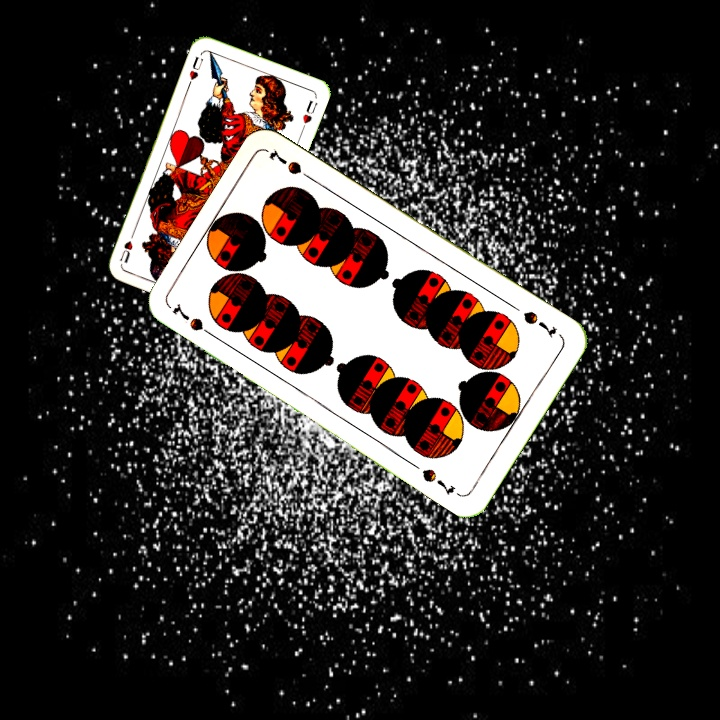HU: (185, 52, 206, 82)
S7: (168, 299, 219, 342), (519, 307, 559, 341)
